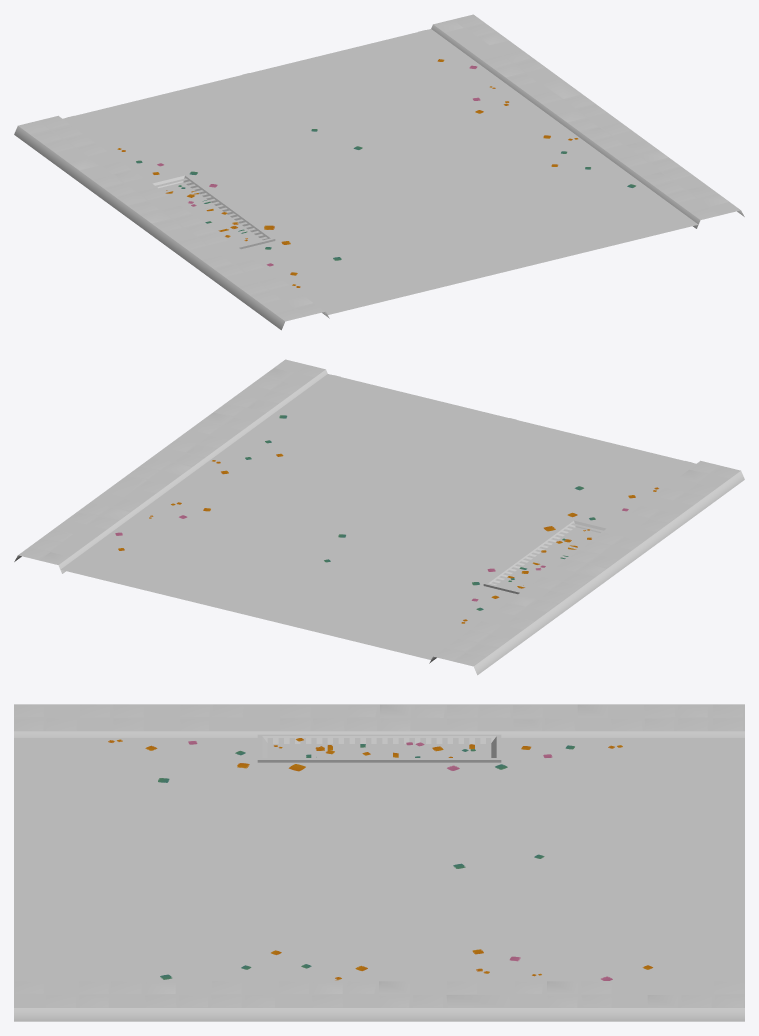
The model's file is TSP_Road_Straight_03A.fbx.
3 views of the same model, one above another, from view 1: azimuth 30°, elevation 25°; view 2: azimuth 150°, elevation 25°; view 3: azimuth 270°, elevation 25° (orthographic). The views are drawn at different scales.
Visible parts, largest first — view 1: TSP_Road_Straight_03A, TSP_Road_Straight_03A_Leaves; view 2: TSP_Road_Straight_03A, TSP_Road_Straight_03A_Leaves; view 3: TSP_Road_Straight_03A, TSP_Road_Straight_03A_Leaves.
Part boxes in pixels (x1,y1,x2,y2): TSP_Road_Straight_03A: (14, 14, 744, 330); TSP_Road_Straight_03A_Leaves: (117, 59, 636, 287); TSP_Road_Straight_03A: (14, 359, 744, 675); TSP_Road_Straight_03A_Leaves: (115, 415, 659, 623); TSP_Road_Straight_03A: (14, 704, 744, 1021); TSP_Road_Straight_03A_Leaves: (108, 738, 653, 980).
Bounding box in the file's own units: 12 × 0.21 × 12.
